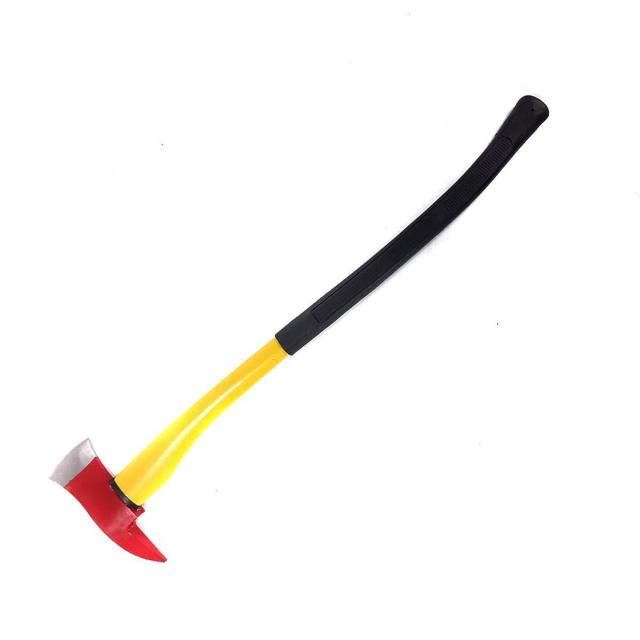Kapak: (57, 69, 547, 553)
